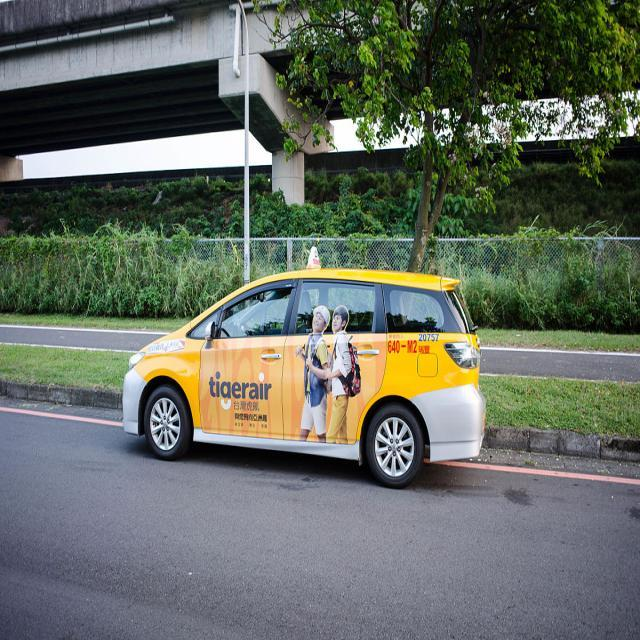taxi: (130, 249, 506, 495)
